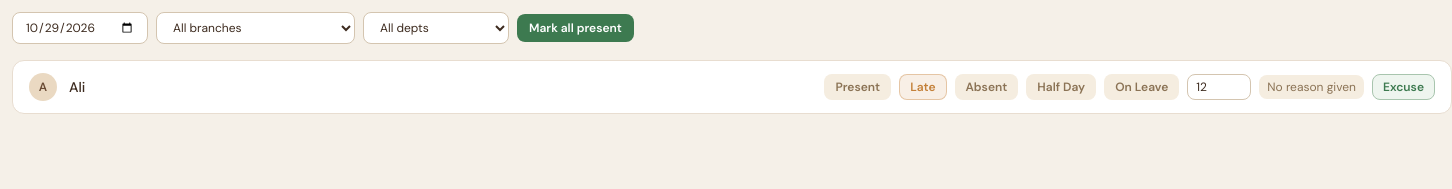
Test: 豁免的动作与失败可见性 › shows a roster-level error banner, not a silent failure, when the RPC is rejected
The width and height of the screenshot is (1452, 189).
Click the button "Excuse": (1404, 87) [1372,74,1435,100]
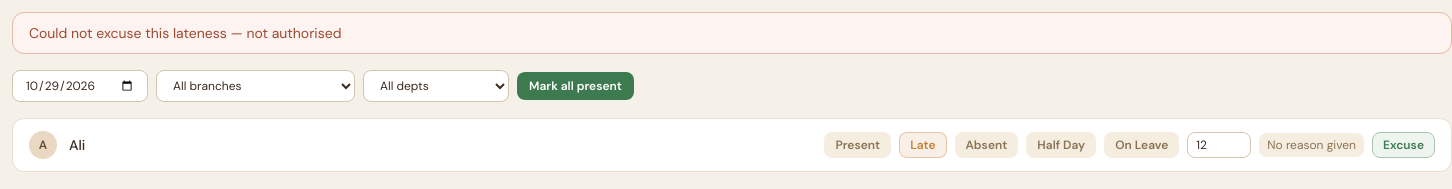
Expected: the button "Excuse" is shown, [1372,132,1435,158]
Result: the text "Could not excuse this lateness — not authorised" is shown at [12,12,1451,54]
